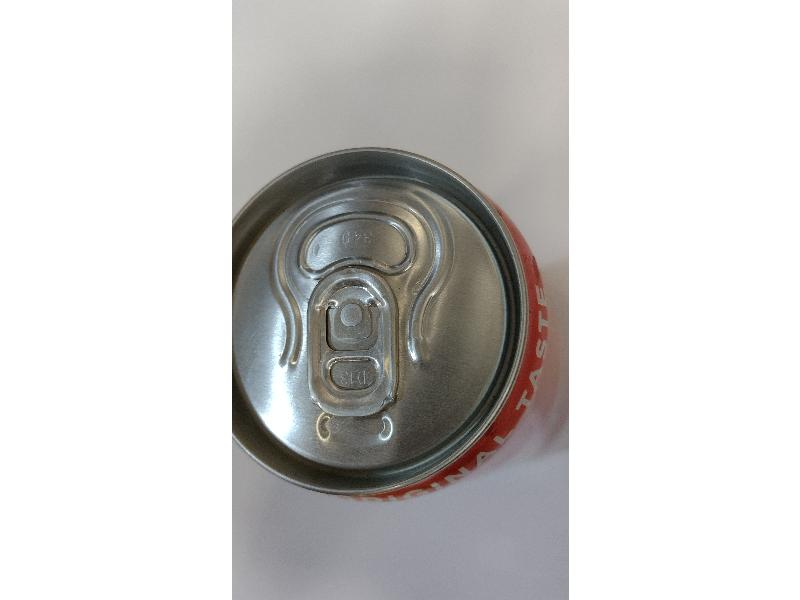can: (232, 148, 548, 504)
